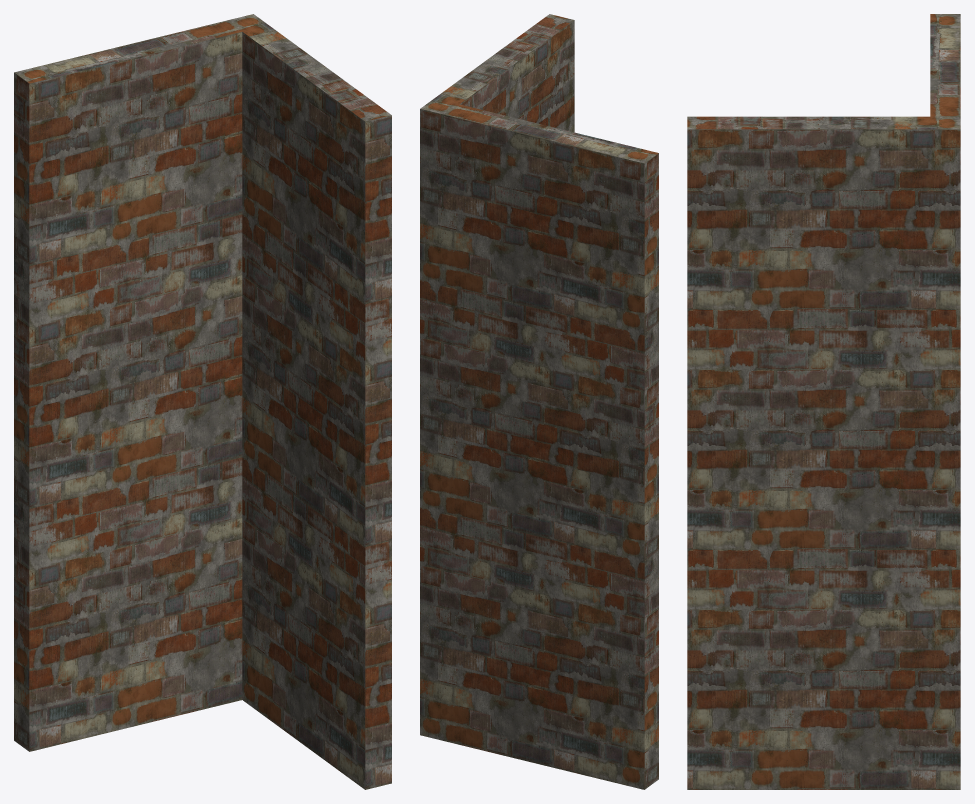
The model's file is wall_basic_IZQ.glb.
The picture shows the model from 3 angles, left to right: view 1: azimuth 30°, elevation 25°; view 2: azimuth 150°, elevation 25°; view 3: azimuth 270°, elevation 25°; orthographic projection. The views are drawn at different scales.
Parts seen in each view (by area): view 1: WALL.010 (×7), WALL.006, WALL.007, WALL.005, WALL.002; view 2: WALL.010 (×6), WALL.009, WALL.008, WALL.002; view 3: WALL.003, WALL.001, WALL.002, WALL.010 (×3).
Part boxes in pixels (left/top/right/bottom): WALL.010 (×7): left=14, top=17, right=391, bottom=789; WALL.006: left=29, top=32, right=242, bottom=698; WALL.007: left=242, top=33, right=365, bottom=789; WALL.005: left=378, top=115, right=391, bottom=786; WALL.002: left=18, top=14, right=376, bottom=120; WALL.010 (×6): left=433, top=14, right=658, bottom=789; WALL.009: left=445, top=115, right=644, bottom=789; WALL.008: left=420, top=109, right=444, bottom=741; WALL.002: left=421, top=19, right=641, bottom=162; WALL.003: left=687, top=129, right=930, bottom=789; WALL.001: left=930, top=129, right=960, bottom=789; WALL.002: left=691, top=14, right=960, bottom=129; WALL.010 (×3): left=687, top=14, right=960, bottom=129.
Bounding box in the file's own units: 1.13 × 3 × 1.13.
Materials: 2 (2 with a texture image).
